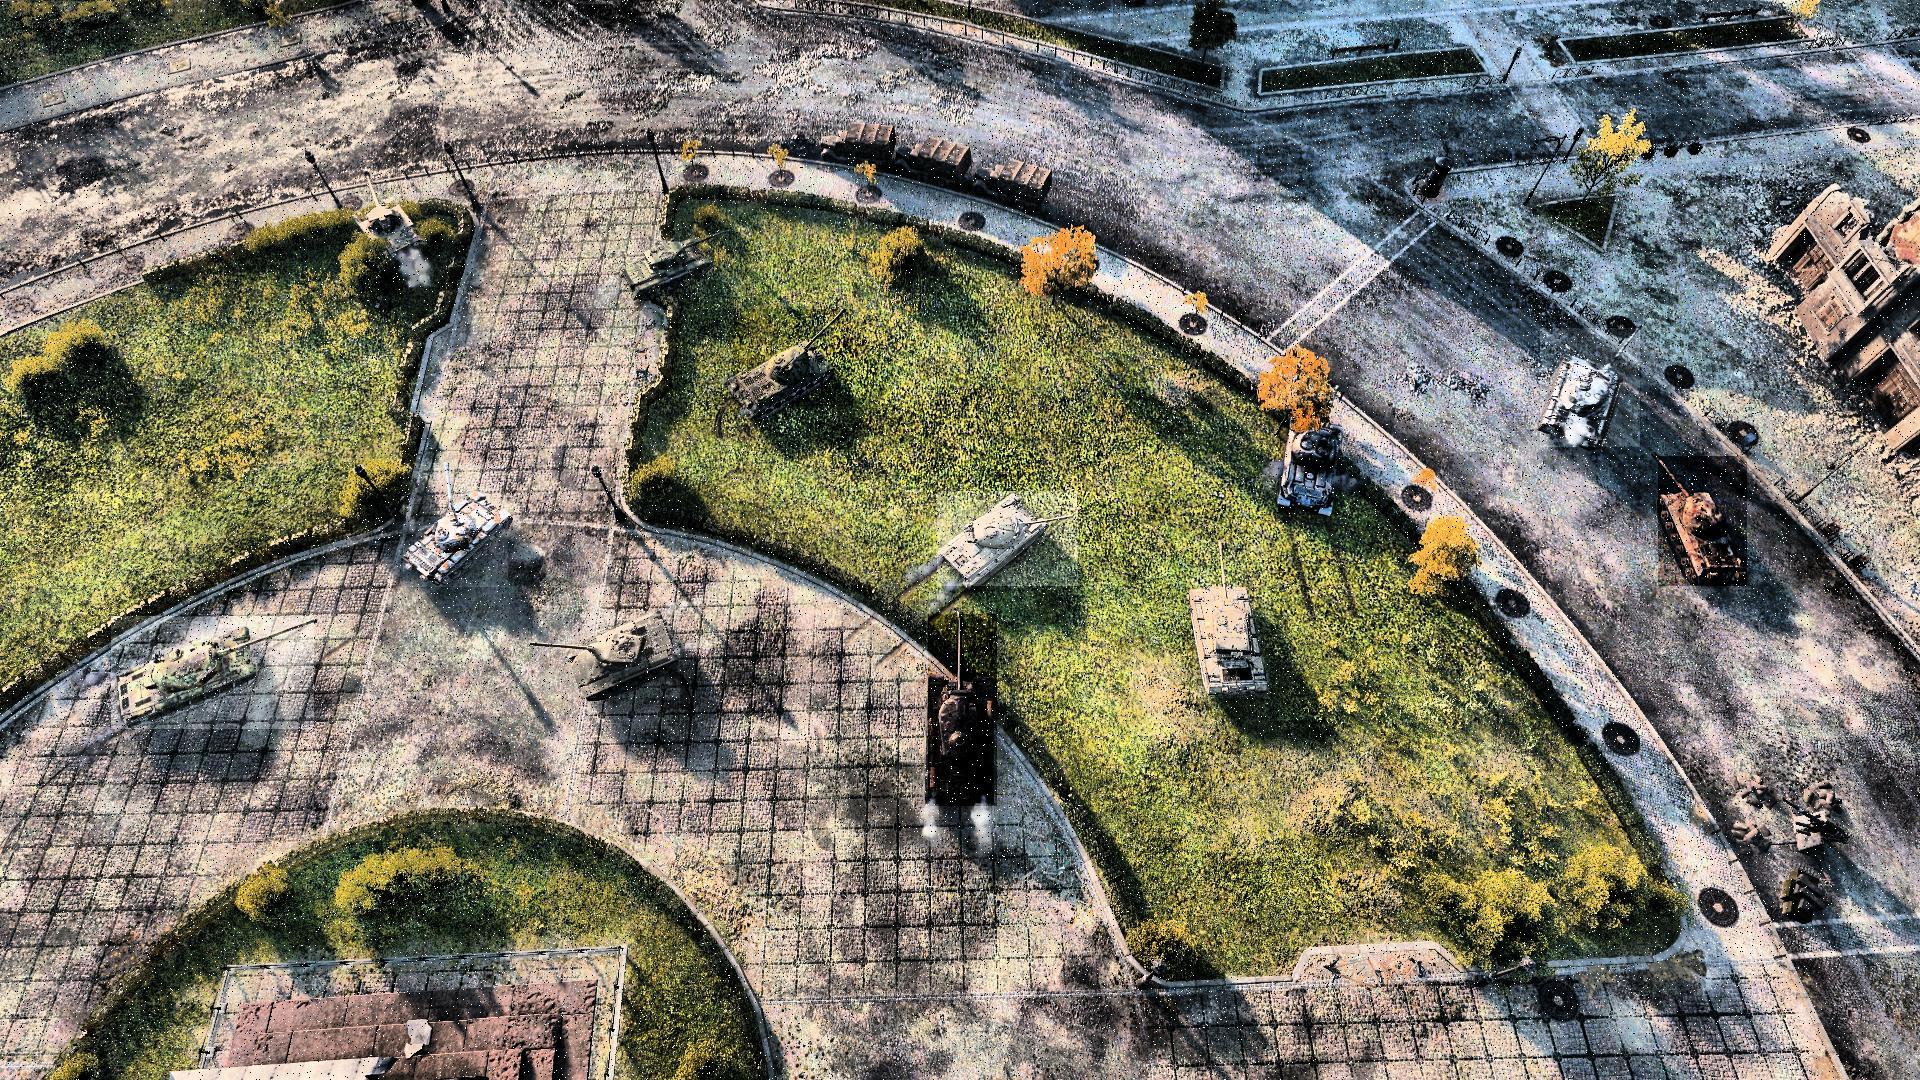military-vehicle: (112, 617, 315, 731), (936, 492, 1079, 587), (928, 615, 997, 807), (404, 463, 508, 587), (533, 612, 680, 698), (1193, 541, 1270, 699), (1540, 328, 1640, 447), (1658, 456, 1747, 587), (733, 310, 853, 406), (1278, 405, 1342, 516), (620, 232, 740, 291)
